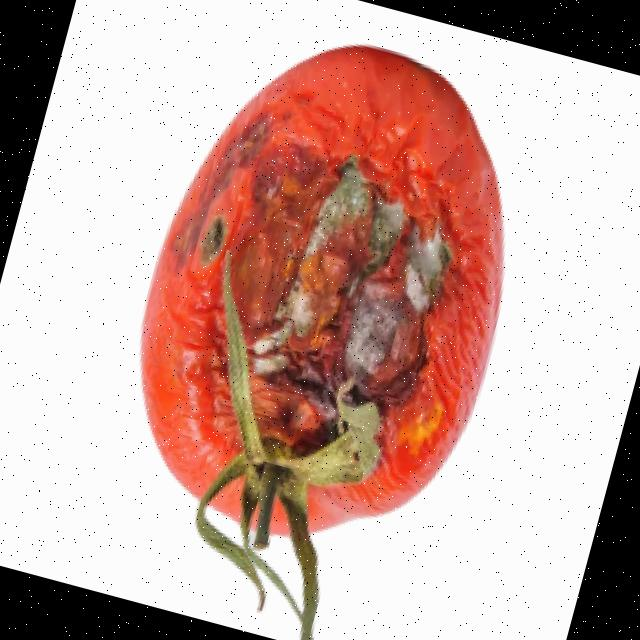Rotten: (92, 2, 562, 584)
